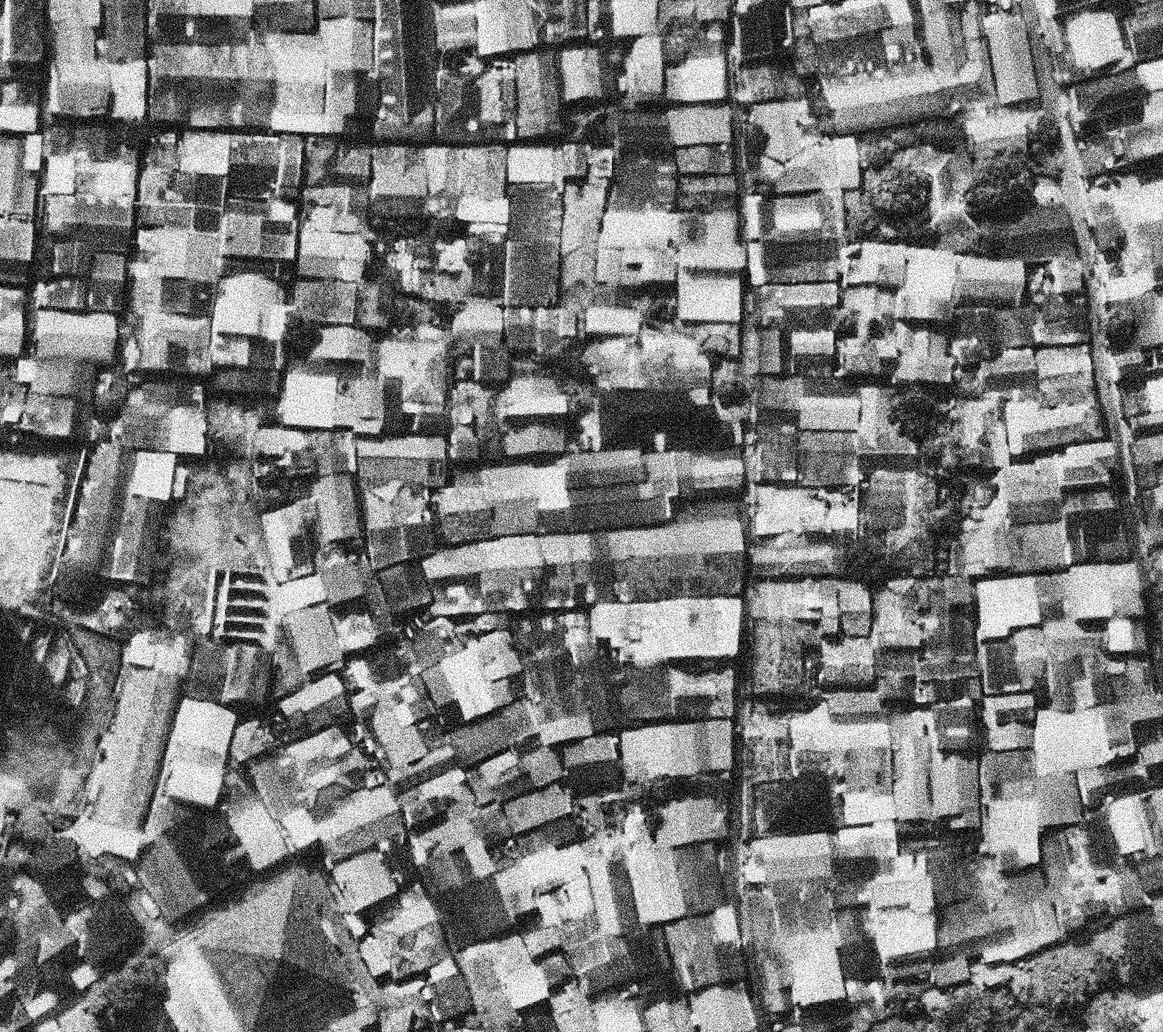building: (140, 871, 359, 1032), (421, 519, 746, 619), (787, 0, 998, 140), (736, 681, 898, 803), (584, 323, 722, 459), (62, 434, 177, 587), (86, 661, 186, 835), (122, 800, 255, 928), (150, 0, 275, 131), (1025, 807, 1150, 934), (551, 449, 680, 565), (740, 882, 845, 1021), (825, 58, 998, 138), (552, 891, 667, 1005), (828, 237, 914, 380), (591, 594, 744, 667), (924, 848, 1014, 966), (136, 129, 233, 237), (456, 928, 555, 1032), (864, 854, 942, 984), (624, 833, 728, 929), (431, 461, 546, 547), (461, 730, 569, 821), (1065, 87, 1163, 184), (157, 696, 239, 809), (0, 926, 95, 1022), (912, 575, 981, 705), (210, 768, 293, 875), (282, 721, 375, 816), (309, 780, 410, 867), (246, 749, 325, 860), (57, 885, 150, 976), (15, 833, 104, 928), (610, 659, 735, 726), (755, 193, 843, 286), (376, 0, 436, 136), (207, 296, 288, 395), (367, 897, 456, 987), (358, 472, 439, 570), (444, 633, 534, 721), (406, 812, 496, 898), (519, 648, 595, 749), (430, 869, 519, 955), (1039, 0, 1128, 86), (114, 390, 214, 466), (859, 472, 936, 569), (444, 696, 542, 772), (504, 184, 563, 310), (619, 719, 736, 782), (596, 204, 682, 289), (519, 839, 601, 928), (296, 188, 372, 283), (379, 340, 452, 434), (20, 355, 98, 442), (411, 652, 490, 737), (118, 380, 206, 456), (744, 769, 839, 839), (555, 176, 607, 300), (499, 366, 568, 458), (186, 640, 276, 710), (272, 671, 357, 744), (359, 689, 431, 775), (1005, 396, 1104, 457), (392, 765, 477, 836), (990, 199, 1077, 268), (280, 598, 351, 682), (261, 498, 332, 582), (920, 0, 989, 85), (623, 841, 688, 928), (202, 567, 275, 644), (294, 276, 394, 332), (43, 192, 134, 253), (435, 71, 509, 145), (982, 12, 1039, 108), (583, 851, 643, 942), (997, 869, 1061, 954), (747, 616, 812, 699), (1056, 487, 1124, 565), (659, 902, 741, 966), (0, 872, 57, 964), (221, 199, 299, 266), (753, 487, 857, 537), (134, 225, 222, 284), (677, 246, 743, 324), (133, 311, 213, 375), (749, 94, 817, 169), (827, 821, 901, 889), (505, 301, 590, 360), (1065, 561, 1142, 626), (644, 450, 744, 500), (1119, 185, 1163, 297), (33, 309, 119, 366), (782, 934, 844, 1013), (509, 51, 563, 141), (330, 846, 400, 915), (362, 511, 441, 572), (272, 47, 328, 133), (648, 792, 729, 851), (1065, 68, 1147, 126), (356, 436, 447, 487), (558, 731, 627, 798), (1035, 712, 1105, 778), (752, 283, 839, 336), (572, 651, 626, 735), (369, 145, 430, 219), (896, 249, 956, 324), (1094, 694, 1163, 759), (829, 911, 887, 988), (750, 532, 843, 580), (750, 832, 833, 885), (462, 934, 536, 993), (374, 556, 438, 623), (675, 936, 748, 994), (501, 780, 575, 837), (520, 838, 590, 898), (310, 471, 365, 547), (399, 613, 466, 675), (995, 461, 1063, 522), (981, 632, 1048, 693), (965, 108, 1042, 161), (608, 154, 676, 214), (955, 397, 1010, 471), (855, 467, 913, 536), (915, 148, 968, 222), (975, 578, 1039, 639), (929, 758, 980, 834), (732, 0, 793, 63), (767, 143, 834, 200), (340, 643, 412, 695), (953, 256, 1025, 308), (562, 447, 647, 491), (216, 712, 279, 771), (1048, 656, 1112, 714), (948, 304, 1005, 369), (974, 752, 1040, 808), (324, 69, 378, 136), (555, 44, 613, 106), (225, 136, 280, 201), (984, 806, 1038, 872), (1004, 519, 1065, 577), (925, 199, 984, 258), (452, 383, 501, 454), (1051, 442, 1122, 491), (797, 431, 858, 488), (50, 62, 112, 118), (132, 275, 214, 317), (1077, 761, 1147, 810), (279, 372, 338, 430), (1103, 295, 1162, 352), (476, 0, 536, 56), (663, 53, 727, 105), (873, 579, 919, 651), (332, 374, 387, 434), (743, 718, 794, 782), (750, 577, 824, 621), (49, 0, 100, 63), (422, 967, 477, 1025), (315, 552, 370, 610), (620, 665, 674, 724), (123, 630, 189, 678), (310, 321, 376, 369), (738, 57, 804, 105), (45, 124, 128, 162), (891, 739, 929, 822), (845, 240, 908, 290), (957, 516, 1010, 575), (984, 694, 1037, 752), (1035, 345, 1094, 397), (513, 815, 581, 860), (1114, 789, 1160, 855), (4, 0, 46, 72), (691, 985, 756, 1031), (0, 138, 37, 217), (320, 19, 375, 72), (928, 701, 980, 757), (587, 285, 644, 336), (493, 862, 541, 922), (611, 110, 673, 156), (102, 0, 147, 63), (1083, 199, 1130, 259), (623, 36, 665, 103), (330, 600, 380, 655), (85, 252, 128, 315), (821, 637, 874, 688), (668, 105, 732, 147), (980, 350, 1037, 397), (530, 0, 592, 43), (220, 269, 287, 308), (463, 236, 505, 298), (1122, 4, 1162, 68), (842, 747, 892, 798), (1037, 297, 1089, 346), (107, 61, 150, 120), (753, 378, 804, 427), (432, 0, 480, 52), (753, 427, 798, 482), (460, 147, 507, 199), (1028, 778, 1080, 825), (991, 305, 1041, 353), (453, 301, 503, 348), (477, 66, 516, 126), (73, 160, 134, 198), (1043, 621, 1104, 659), (271, 573, 326, 615), (635, 966, 685, 1012), (330, 143, 375, 194), (1125, 437, 1163, 497), (0, 217, 33, 284), (678, 212, 738, 248), (253, 0, 318, 33), (507, 147, 562, 186), (876, 651, 917, 703), (825, 691, 884, 727), (0, 80, 39, 134), (800, 397, 860, 432), (231, 130, 283, 170), (677, 176, 736, 211), (675, 143, 733, 178), (1108, 657, 1153, 702), (790, 331, 835, 375), (1032, 570, 1069, 623), (856, 444, 919, 475), (836, 583, 871, 638), (858, 387, 890, 447), (892, 355, 953, 386), (753, 327, 792, 375), (1116, 381, 1163, 420), (556, 988, 598, 1031), (0, 287, 25, 357), (533, 464, 570, 511), (303, 139, 337, 189), (427, 147, 461, 196), (832, 137, 862, 191), (535, 951, 575, 991), (596, 998, 644, 1031), (612, 0, 656, 36), (644, 1000, 694, 1031), (656, 0, 699, 36), (1048, 254, 1084, 297), (504, 394, 568, 418), (52, 240, 92, 278), (41, 278, 87, 310), (1104, 622, 1147, 654), (473, 346, 509, 384), (427, 269, 467, 303), (45, 154, 76, 195), (929, 961, 970, 992), (347, 685, 380, 722), (317, 0, 376, 20), (1107, 349, 1146, 378), (561, 144, 590, 182), (0, 105, 36, 133), (587, 0, 613, 38), (775, 211, 820, 232), (1097, 536, 1130, 564), (659, 36, 686, 67), (589, 149, 613, 180), (494, 708, 513, 726), (538, 514, 559, 530), (509, 701, 526, 713)
tree: (948, 144, 1048, 236), (880, 379, 957, 453), (614, 757, 686, 831), (122, 582, 200, 640), (834, 527, 899, 594), (43, 552, 106, 617), (11, 788, 76, 850), (870, 159, 932, 223), (850, 120, 913, 180), (540, 332, 599, 392), (81, 846, 144, 900), (935, 481, 997, 535), (838, 198, 892, 254), (271, 307, 326, 361), (919, 434, 968, 487), (1120, 915, 1162, 974), (893, 210, 943, 258), (1023, 113, 1070, 163), (557, 381, 602, 425), (115, 112, 157, 154), (931, 830, 984, 862), (256, 473, 297, 513), (572, 110, 612, 150), (919, 121, 966, 154), (428, 214, 467, 248), (199, 417, 232, 457), (92, 384, 124, 424), (1103, 309, 1137, 346), (1031, 151, 1067, 185), (713, 376, 747, 410), (749, 172, 775, 197), (834, 307, 857, 333)
